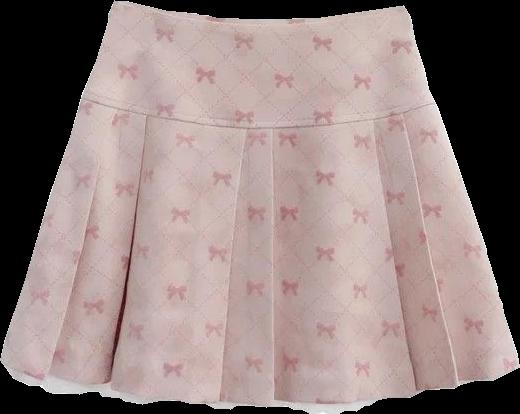Hemline: (0, 358, 519, 404)
Waistline: (81, 95, 435, 131), (113, 0, 404, 27)
